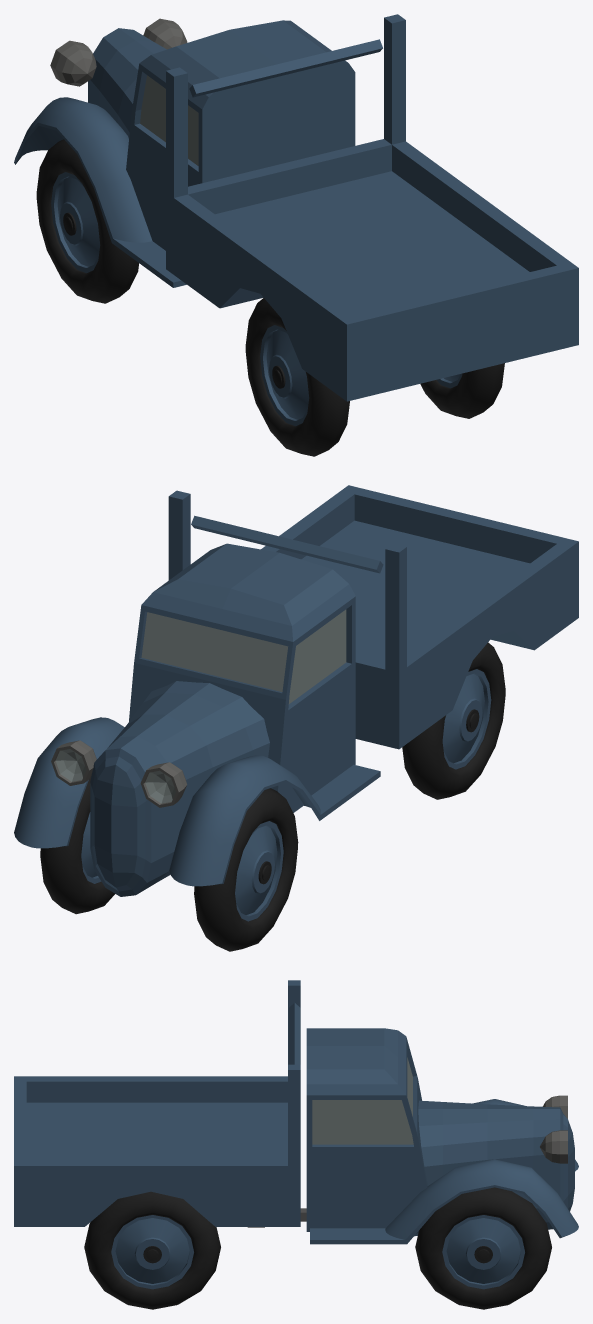
Rendered from Bunta Fujiwara.fbx.
3 views of the same model, one above another, from view 1: azimuth 30°, elevation 25°; view 2: azimuth 150°, elevation 25°; view 3: azimuth 270°, elevation 25° (orthographic). The views are drawn at different scales.
Visible parts, largest first — view 1: Truck_body, Rear_wheels, Front_wheels; view 2: Truck_body, Front_wheels, Rear_wheels; view 3: Truck_body, Front_wheels, Rear_wheels.
Boxes of the visible parts, box(x1,y1,x2,y2) form: Truck_body: box(14, 14, 578, 401); Rear_wheels: box(245, 298, 504, 456); Front_wheels: box(36, 139, 138, 303); Truck_body: box(14, 485, 578, 896); Front_wheels: box(40, 777, 298, 951); Rear_wheels: box(402, 642, 505, 799); Truck_body: box(14, 980, 578, 1244); Front_wheels: box(415, 1187, 551, 1309); Rear_wheels: box(84, 1191, 220, 1309).
Bounding box in the file's own units: 288 × 381 × 768.
